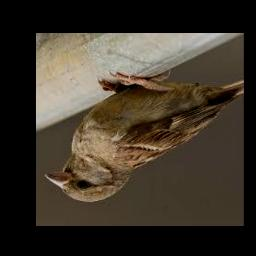Sparrow: (45, 72, 244, 203)
